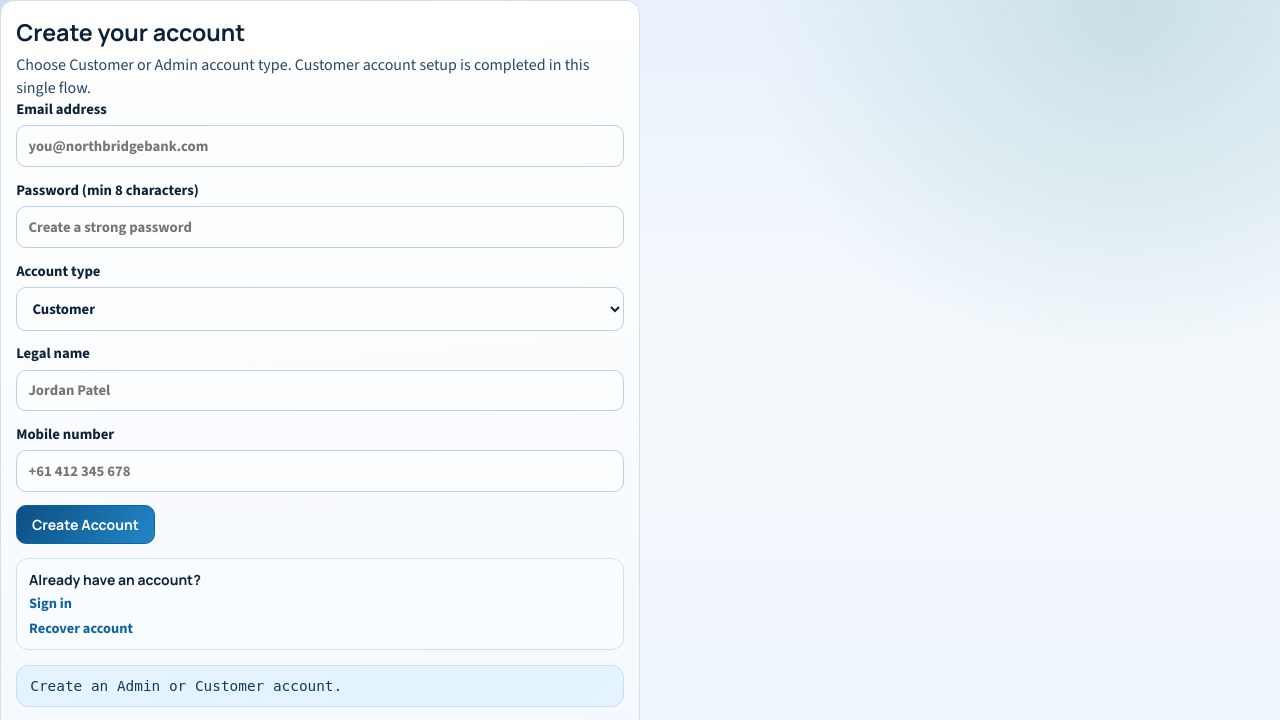
Test: RegisterPage › rejects customer sign-up when mobile number length is invalid
In the field labelled "Email address": (320,146) [16,126,624,167], type "customer2@example.com"
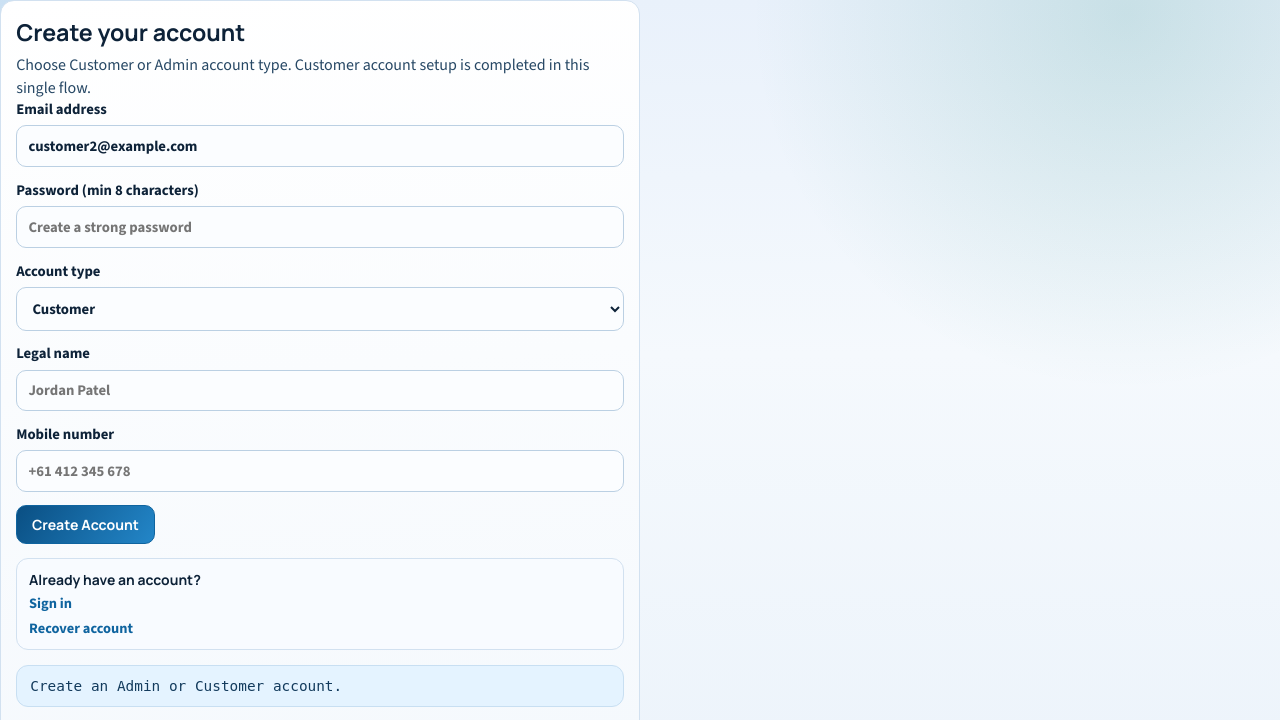
In the password field labelled "Password (min 8 characters)": (320,227) [16,206,624,248], type "secret123"
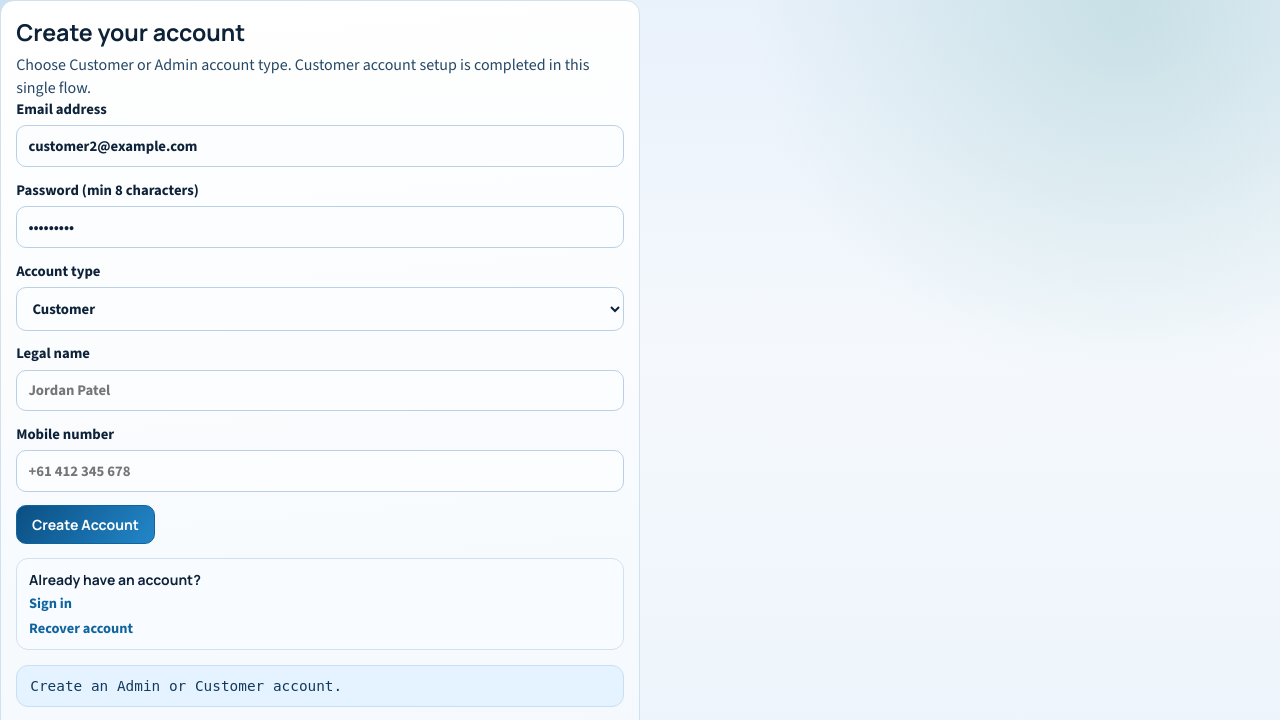
In the field labelled "Legal name": (320,390) [16,370,624,411], type "Customer Two"
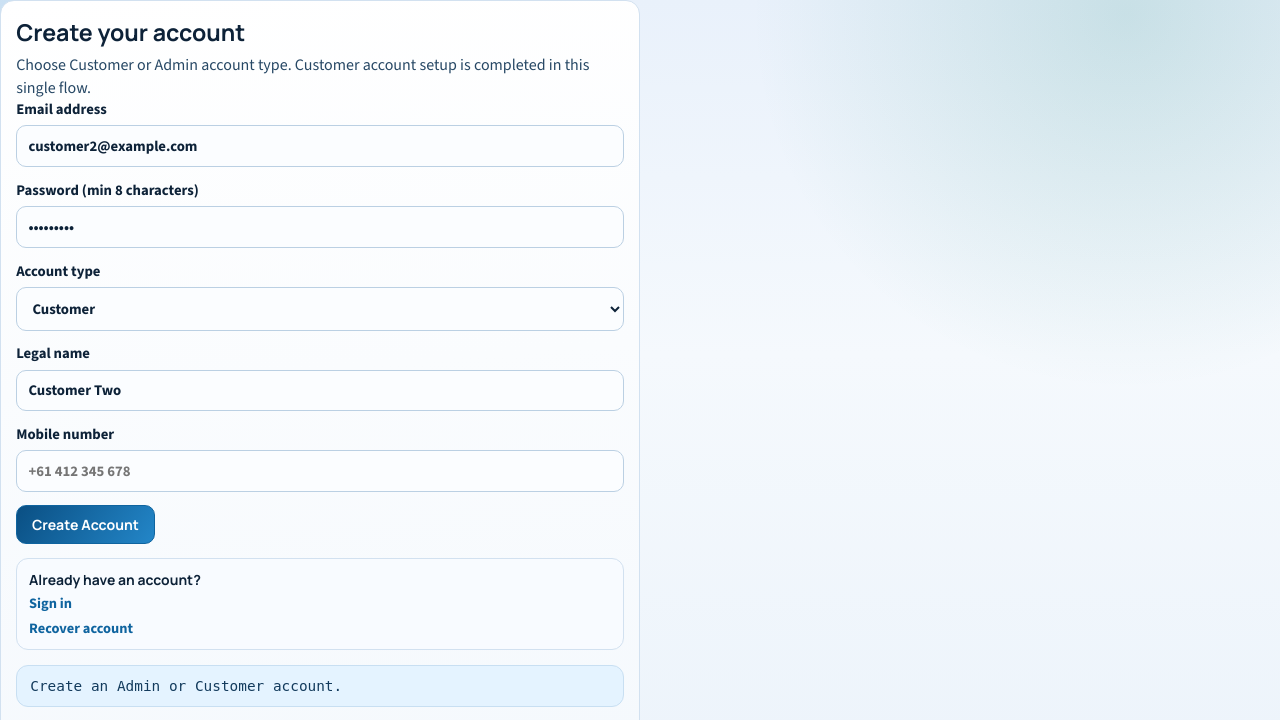
In the field labelled "Mobile number": (320,471) [16,450,624,492], type "12345"
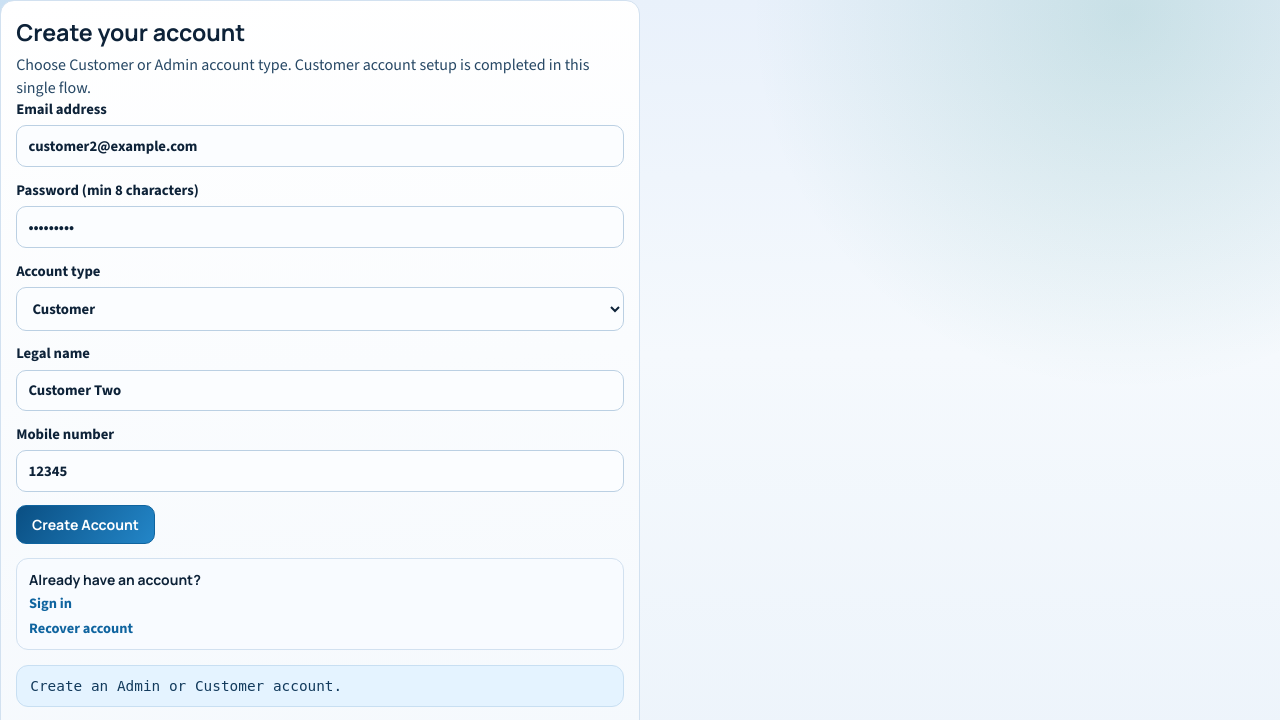
Click the button "Create Account": (85,524) [16,505,155,544]
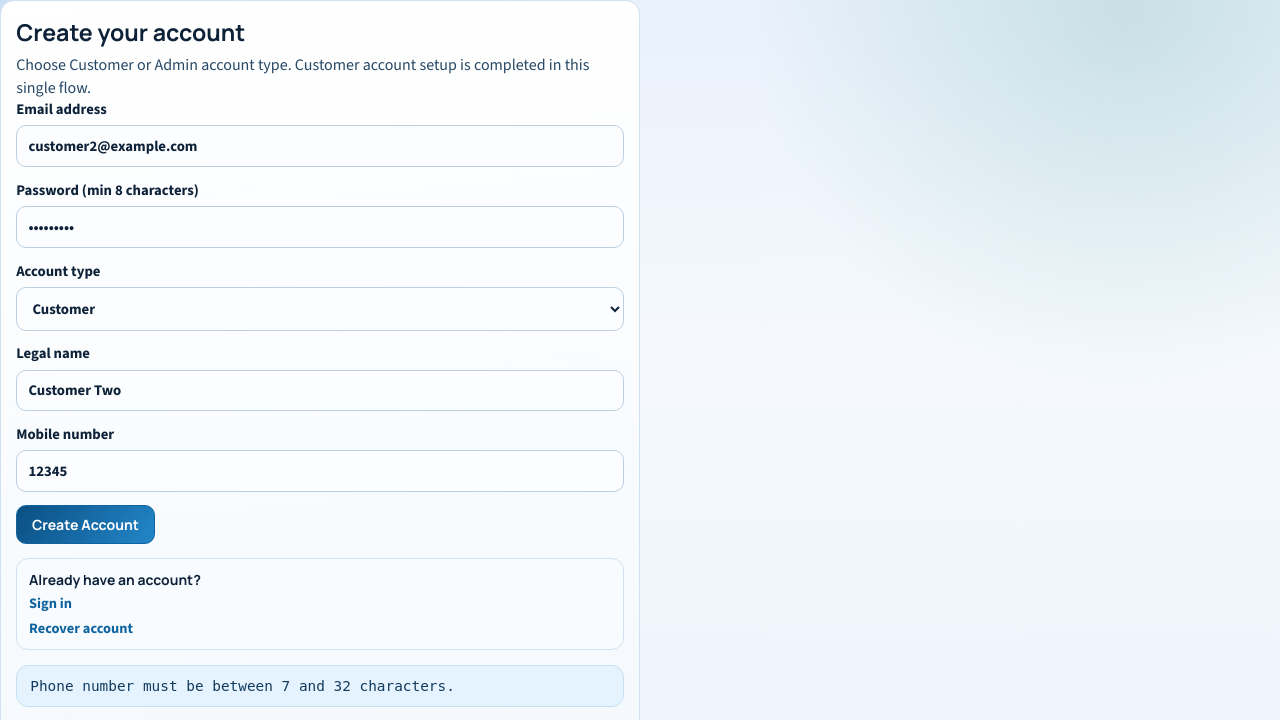
Now the text "Phone number must be between 7 and 32 characters." is shown, box [16,665,624,707]
